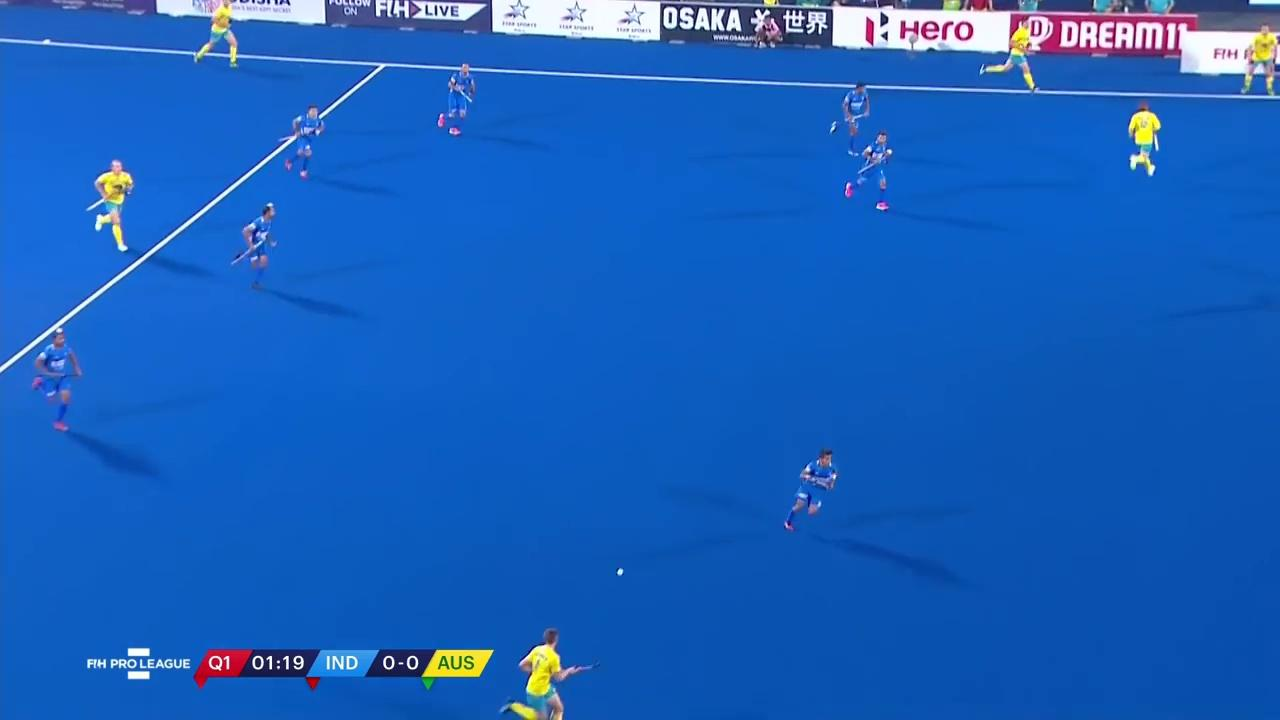ball: (606, 564, 629, 580)
